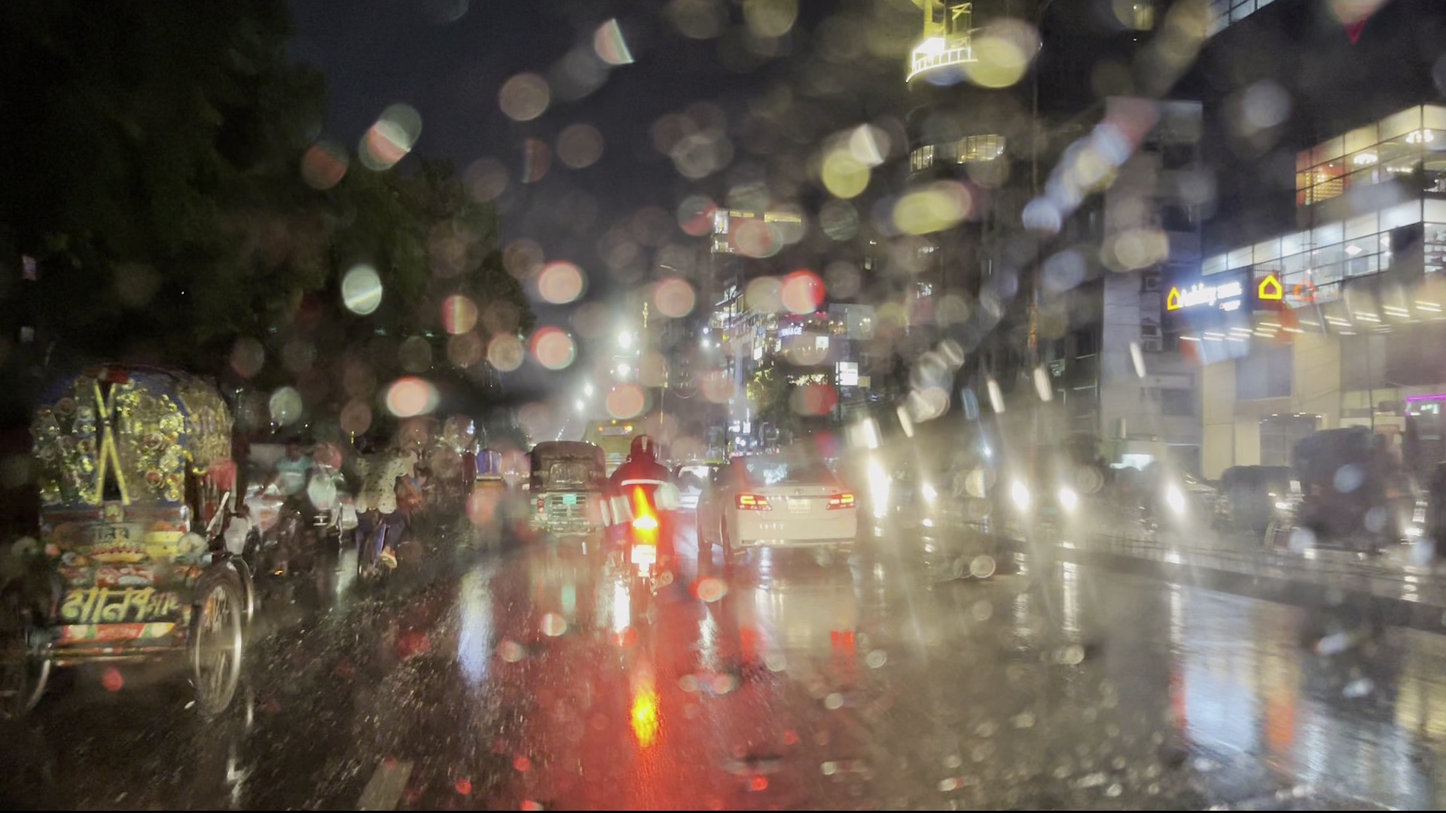bicycle: (352, 431, 427, 586), (254, 434, 327, 582)
car: (693, 449, 862, 577)
motorbike: (600, 428, 680, 620)
